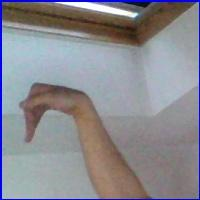del: (16, 80, 97, 151)
